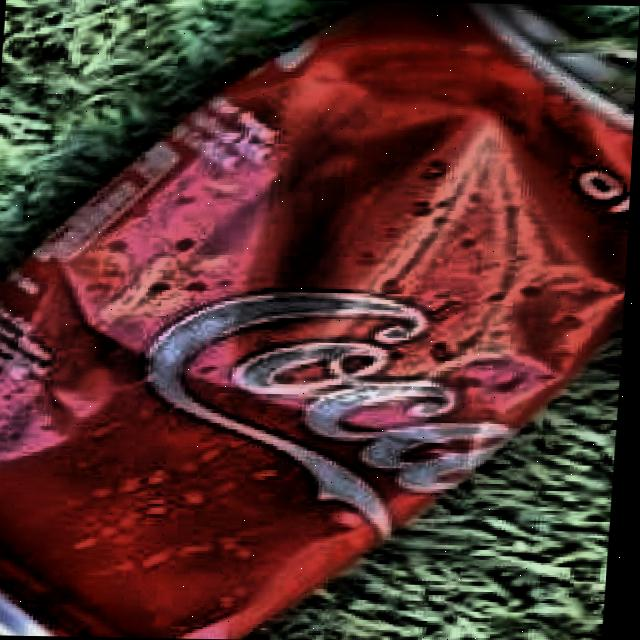metal: (0, 1, 638, 640)
